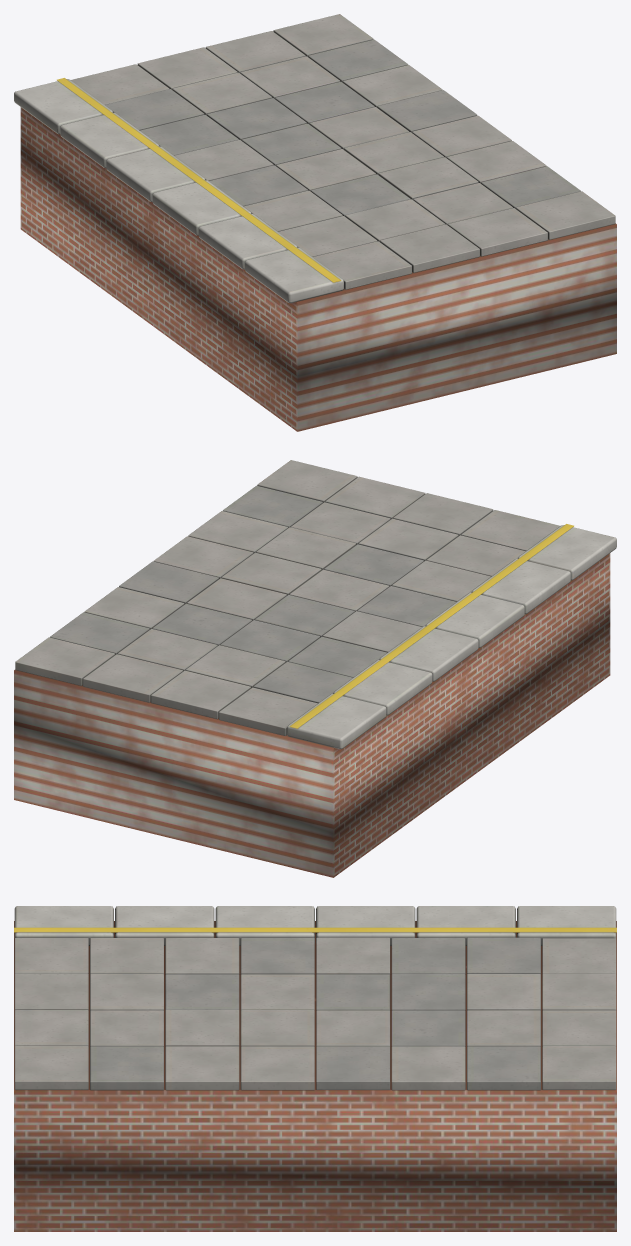
File: platform_section.glb
3 renders of one model, top to bottom at view 1: azimuth 30°, elevation 25°; view 2: azimuth 150°, elevation 25°; view 3: azimuth 270°, elevation 25°, orthographic. The views are drawn at different scales.
Visible parts, largest first — view 1: PlatformSection; view 2: PlatformSection; view 3: PlatformSection.
Boxes of the visible parts, box(x1,y1,x2,y2) form: PlatformSection: box(14, 14, 616, 431); PlatformSection: box(14, 460, 616, 877); PlatformSection: box(14, 906, 616, 1231).
Size of the model in its own units: 4.1 by 1.68 by 6.
Materials: 5 (5 with a texture image).
